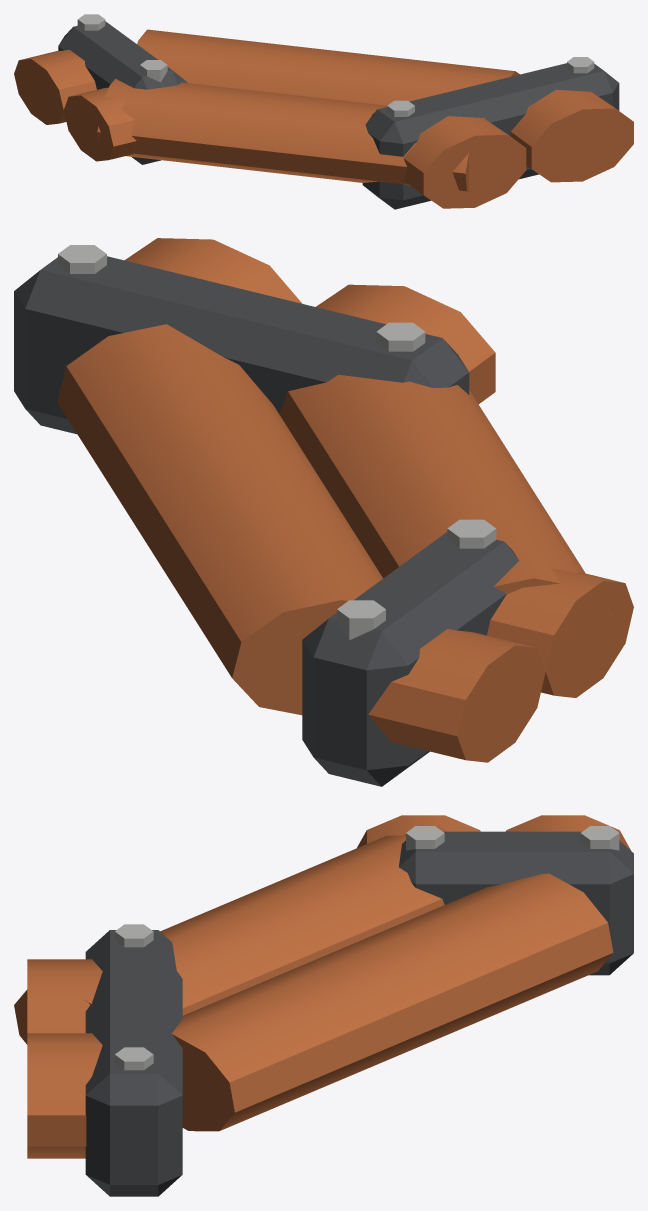
File: heat-pipe-corner-down-left.glb
3 renders of one model, top to bottom at view 1: azimuth 30°, elevation 25°; view 2: azimuth 150°, elevation 25°; view 3: azimuth 270°, elevation 25°, orthographic. The views are drawn at different scales.
Visible parts, largest first — view 1: body; view 2: body; view 3: body.
Boxes of the visible parts, left/top/right/bottom form: body: left=14, top=14, right=633, bottom=209; body: left=14, top=238, right=633, bottom=786; body: left=14, top=815, right=633, bottom=1196.
Size of the model in its own units: 0.7038 by 0.15 by 0.6388.
